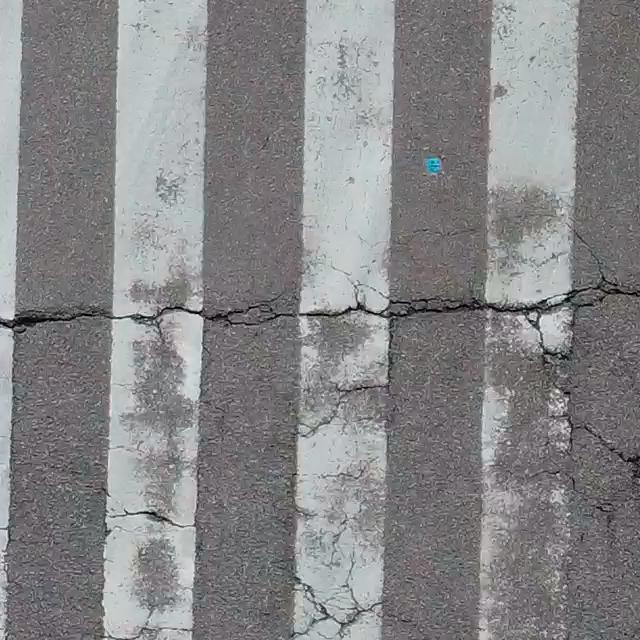GRIETA: (0, 285, 639, 334), (395, 214, 562, 246), (566, 221, 617, 286), (113, 509, 189, 528)
PIEL DE COCODRILO: (281, 334, 399, 639), (515, 316, 639, 533)
